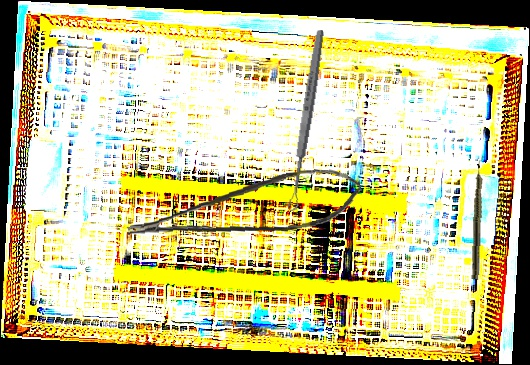Handpiece: (471, 155, 485, 280)
Micro Scissor: (124, 163, 364, 244)
Surgical Spoon: (285, 29, 327, 212)
